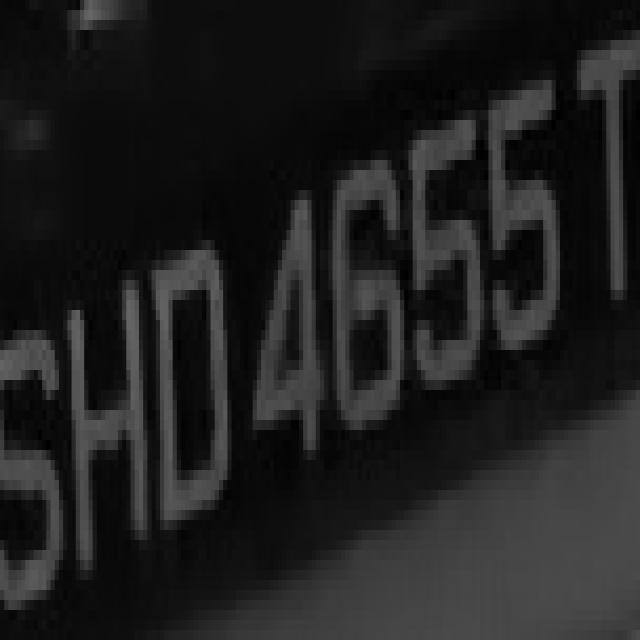4: (235, 190, 332, 510)
5: (400, 90, 484, 450), (480, 60, 560, 380)
6: (324, 110, 404, 480)
D: (134, 230, 232, 540)
H: (64, 250, 148, 590)
S: (13, 280, 67, 640)
T: (564, 20, 640, 340)
